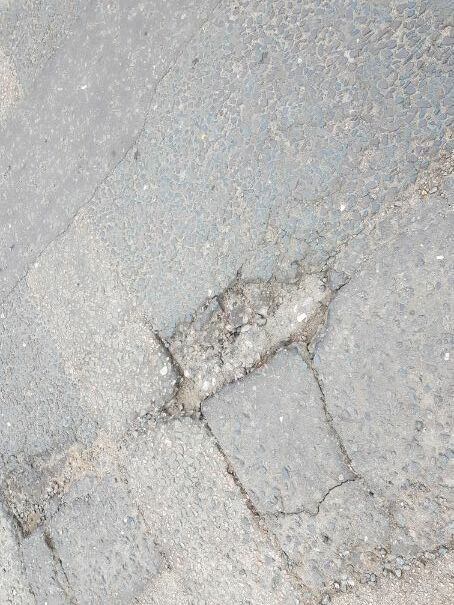pothole: (145, 248, 351, 425), (0, 425, 120, 540)
